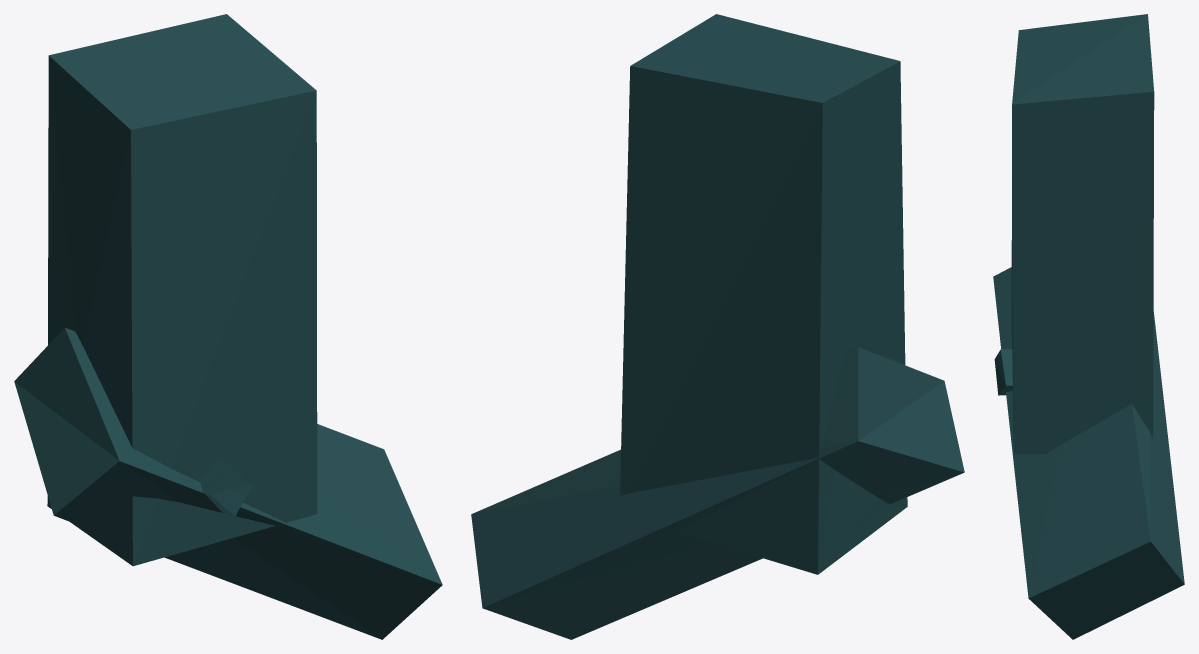
3 renders of one model, left to right at view 1: azimuth 30°, elevation 25°; view 2: azimuth 150°, elevation 25°; view 3: azimuth 270°, elevation 25°, orthographic. The views are drawn at different scales.
Visible parts, largest first — view 1: 599_Cube.2410; view 2: 599_Cube.2410; view 3: 599_Cube.2410.
Part boxes in pixels (x1=…): 599_Cube.2410: x1=14, y1=14, x2=442, y2=639; 599_Cube.2410: x1=471, y1=14, x2=964, y2=639; 599_Cube.2410: x1=993, y1=14, x2=1184, y2=639.
Size of the model in its own units: 11.8 by 17.38 by 5.91.
